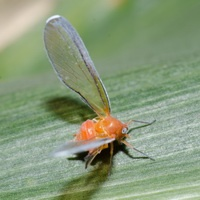insect: (44, 15, 152, 167)
